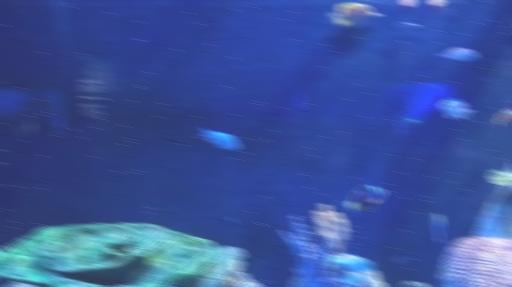Fish: (330, 4, 379, 27), (346, 185, 383, 211), (200, 128, 237, 149), (440, 98, 471, 118), (436, 48, 475, 60), (433, 214, 442, 244), (497, 112, 511, 124)
